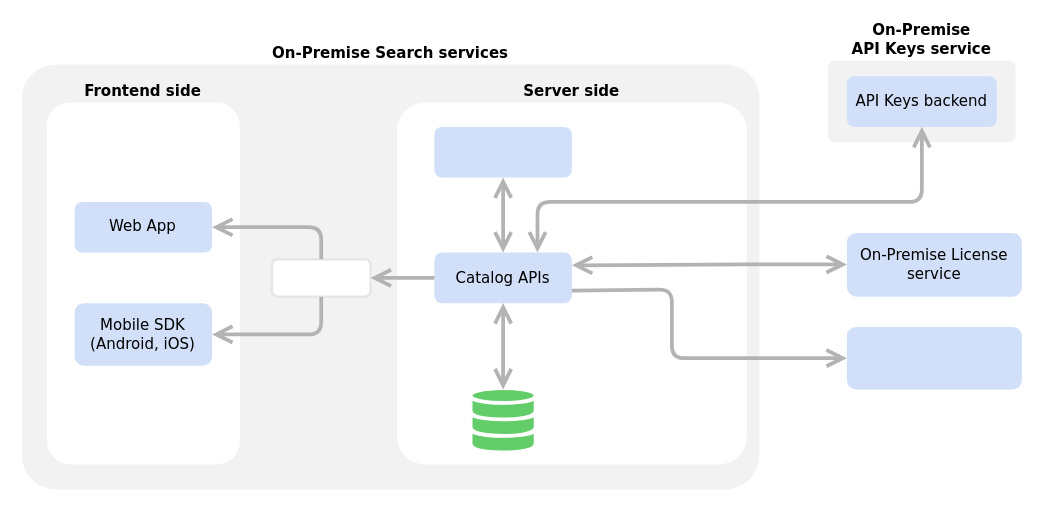
The diagram is 1043 pixels wide and 511 high, and some of its shapes have lost their labels. Here are the shapes that lost their labels. From the top down, the centre of each, then its label:
At pixel 502 151: "Search API".
At pixel 320 277: "REST API".
At pixel 933 357: "On-Premise Statistics Collection service".
At pixel 502 420: "PostgreSQL".
